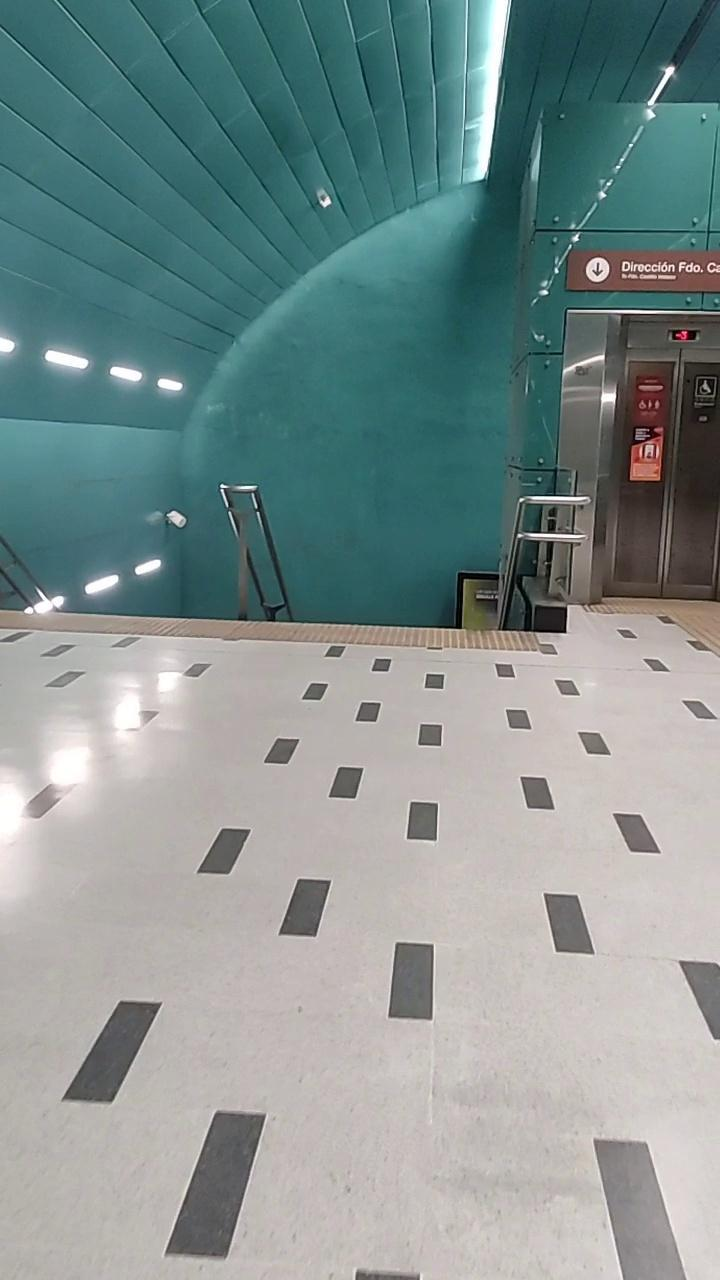down arrow: (590, 256, 608, 282)
handicapped symbol: (695, 377, 714, 398)
